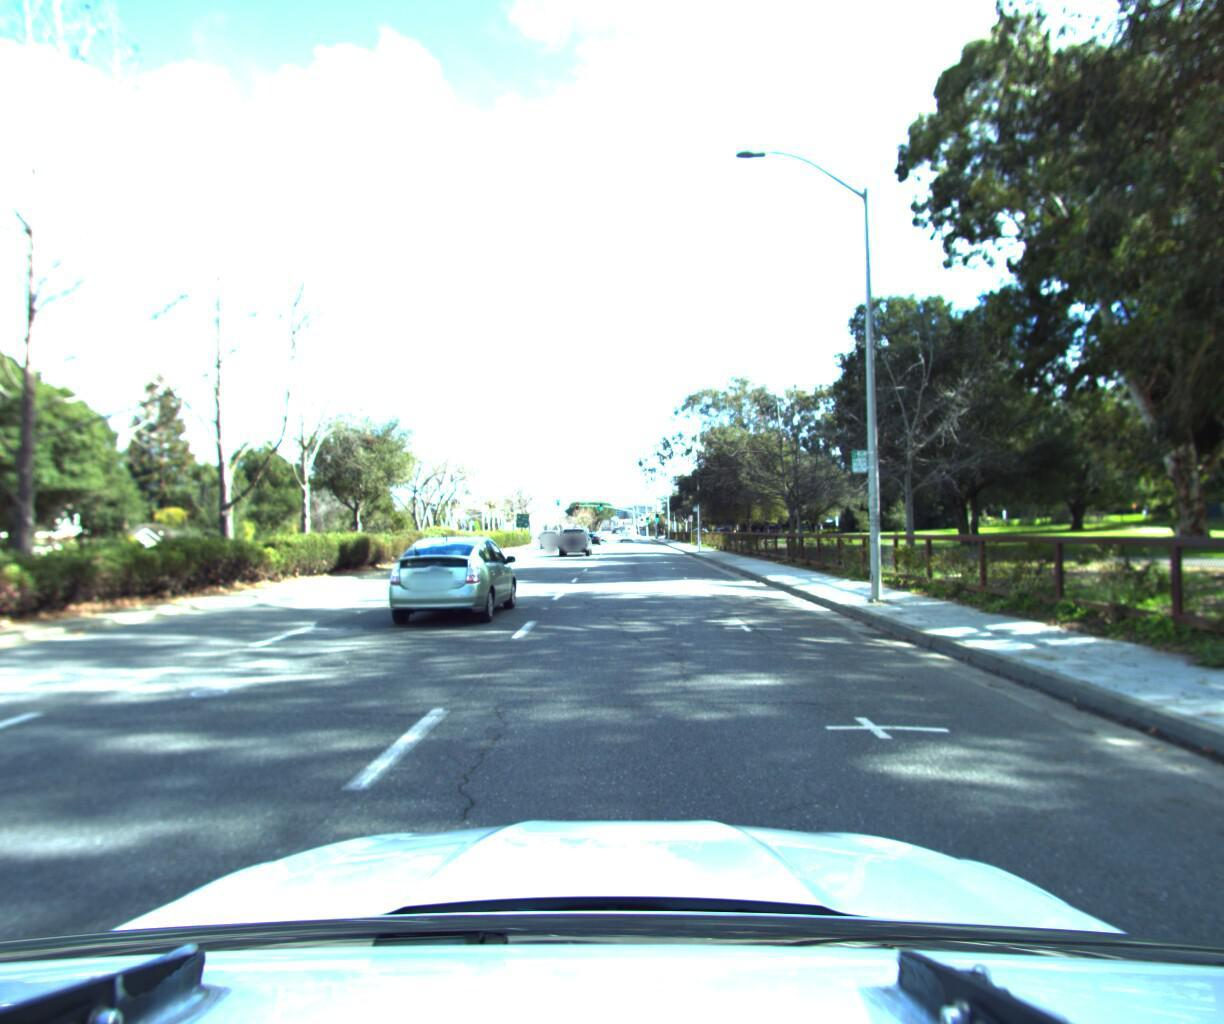car: (383, 529, 527, 629), (557, 524, 593, 555), (540, 527, 565, 548)
